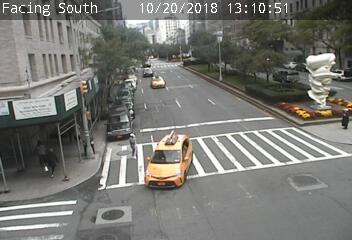car: (152, 136, 182, 186), (151, 76, 164, 88), (144, 66, 154, 76)
